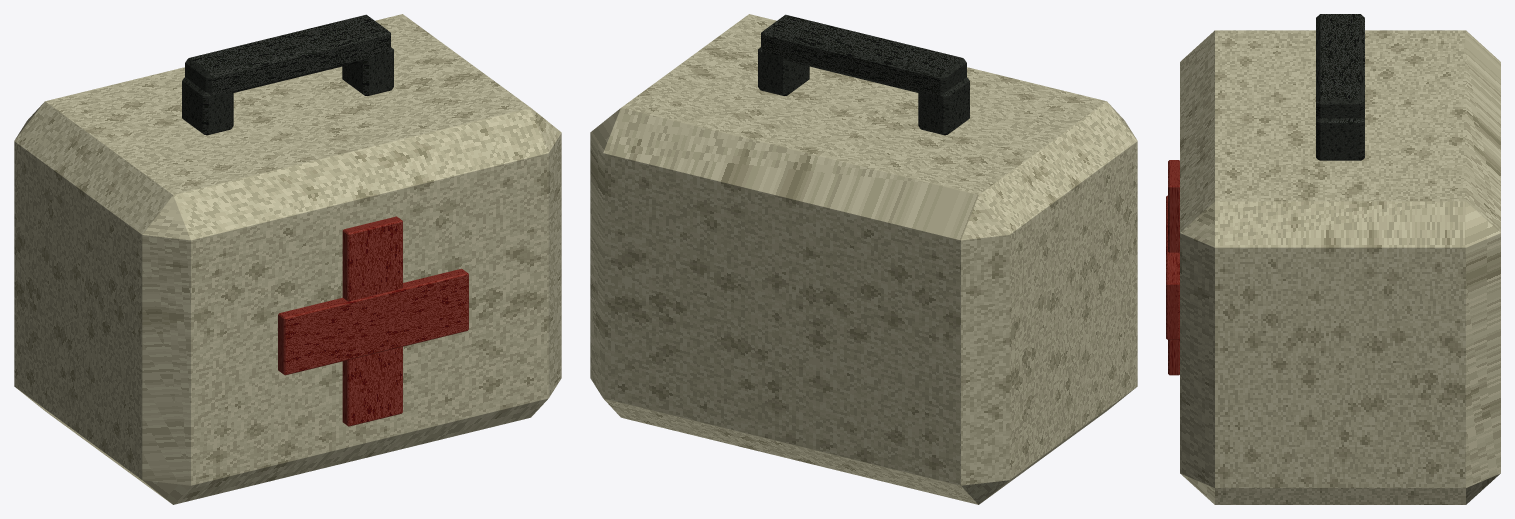
The model's file is medkit.glb.
3 renders of one model, left to right at view 1: azimuth 30°, elevation 25°; view 2: azimuth 150°, elevation 25°; view 3: azimuth 270°, elevation 25°, orthographic. The views are drawn at different scales.
Visible parts, largest first — view 1: Medical_case, Medical_red_horizontal, Handle, Medical_red_vertical, Handle_foot, Handle_foot.001; view 2: Medical_case, Handle, Handle_foot, Handle_foot.001; view 3: Medical_case, Handle, Handle_foot.001, Medical_red_vertical, Medical_red_horizontal.
Boxes of the visible parts, <box> form: Medical_case: <box>14,14,561,504</box>; Medical_red_horizontal: <box>278,268,468,375</box>; Handle: <box>185,14,390,96</box>; Medical_red_vertical: <box>342,216,402,426</box>; Handle_foot: <box>182,77,233,135</box>; Handle_foot.001: <box>342,47,393,95</box>; Medical_case: <box>590,14,1137,504</box>; Handle: <box>761,14,966,96</box>; Handle_foot: <box>918,77,969,135</box>; Handle_foot.001: <box>758,47,809,95</box>; Medical_case: <box>1180,30,1500,504</box>; Handle: <box>1316,14,1364,119</box>; Handle_foot.001: <box>1316,118,1364,160</box>; Medical_red_vertical: <box>1168,160,1179,375</box>; Medical_red_horizontal: <box>1166,195,1179,339</box>.
Size of the model in its own units: 0.34 by 0.287 by 0.24.
3 materials, 3 textured.
